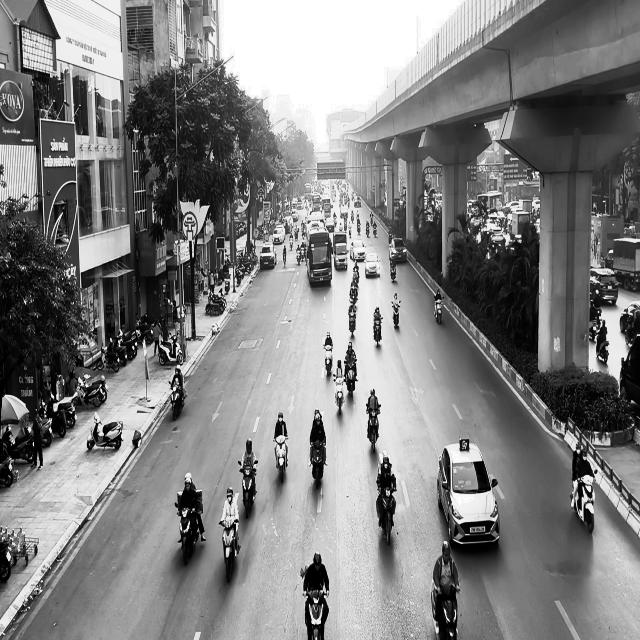car: (436, 437, 499, 547), (388, 237, 406, 263), (364, 252, 380, 278)
motorbike: (175, 491, 202, 565), (570, 468, 598, 532), (431, 582, 458, 640), (86, 412, 123, 451), (218, 518, 240, 582), (303, 588, 329, 640), (376, 481, 396, 545), (238, 459, 258, 518), (308, 439, 326, 489), (366, 403, 381, 453), (273, 436, 288, 483), (168, 380, 185, 420), (333, 373, 345, 415), (344, 360, 356, 397), (595, 334, 609, 363), (322, 343, 332, 376), (433, 295, 444, 324), (348, 303, 357, 335), (373, 318, 382, 347), (392, 300, 401, 328), (389, 254, 396, 280)
